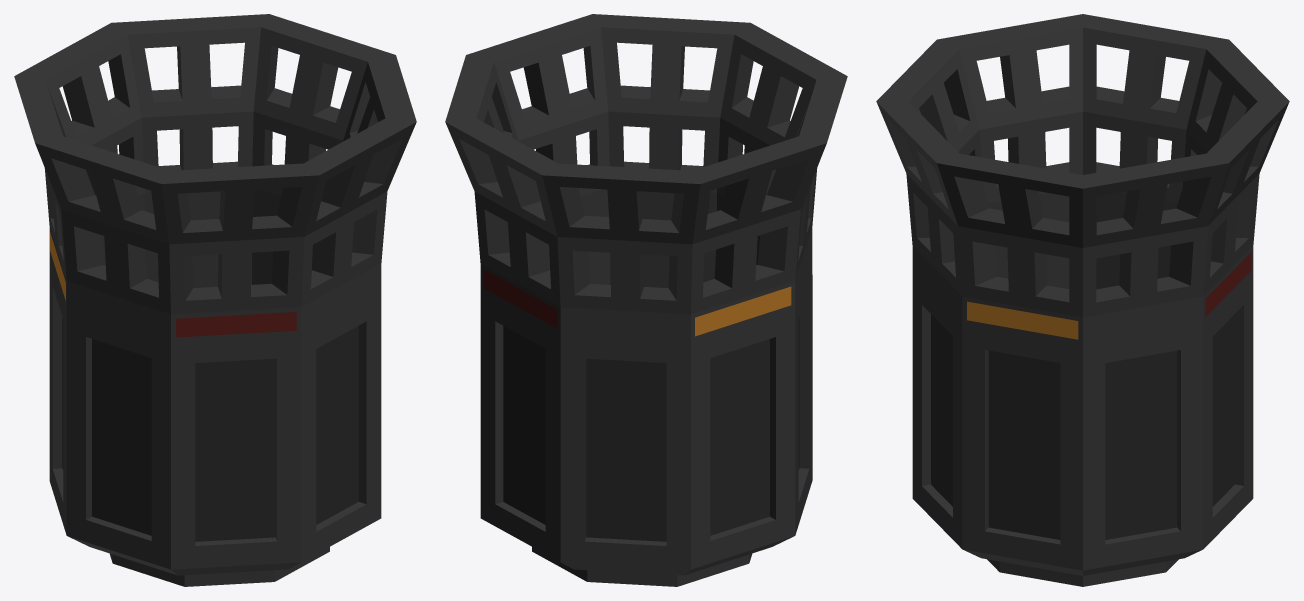
The model's file is Wastebasket_01.FBX.
3 renders of one model, left to right at view 1: azimuth 30°, elevation 25°; view 2: azimuth 150°, elevation 25°; view 3: azimuth 270°, elevation 25°, orthographic.
Parts seen in each view (by area): view 1: Wastebasket_01; view 2: Wastebasket_01; view 3: Wastebasket_01.
Part boxes in pixels (<box>): Wastebasket_01: <box>14,14,416,586</box>; Wastebasket_01: <box>445,14,847,586</box>; Wastebasket_01: <box>876,14,1289,586</box>.
Size of the model in its own units: 0.849 by 0.9877 by 0.849.
